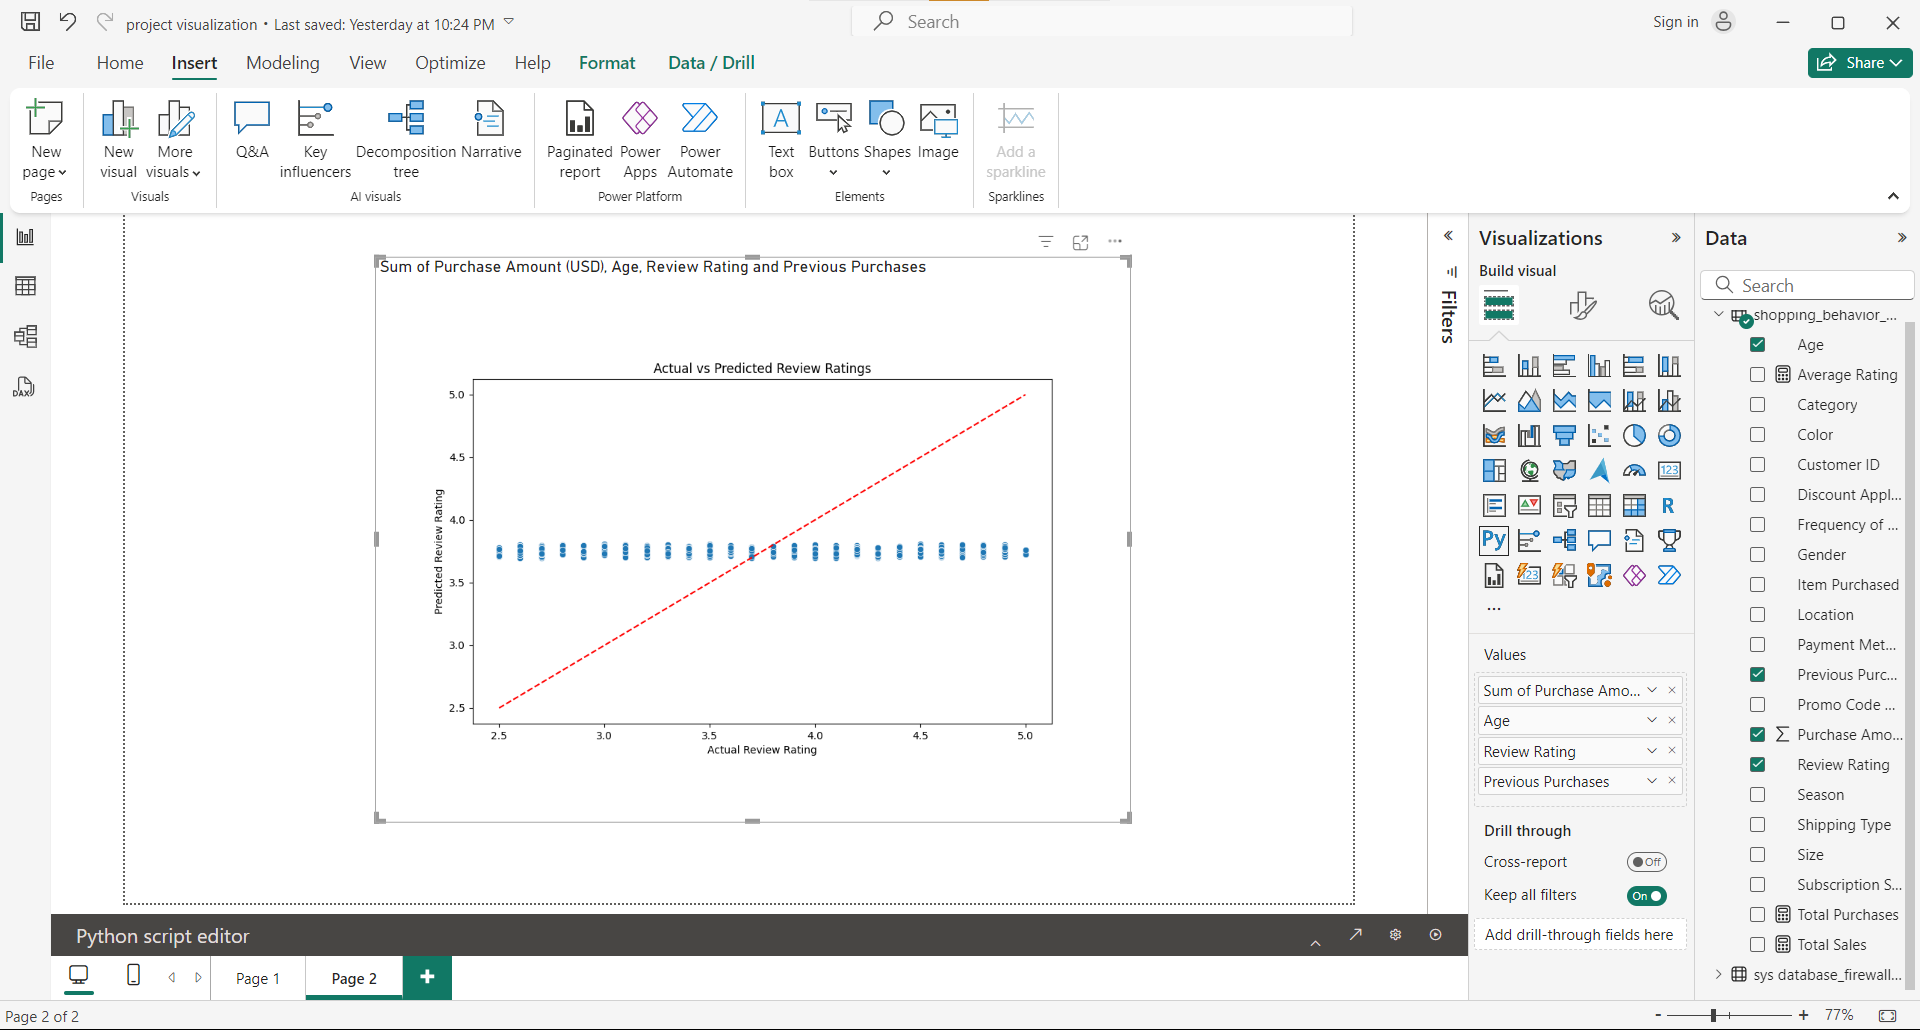

This screenshot's page, from the dashboard's own definition file:
{"tool":"powerbi","page":{"name":"Page 2","canvas":[1280,720],"ordinal":1},"visuals":[{"type":"pythonVisual","fields":{"Values":["Sum(shopping_behavior_updated.Purchase Amount (USD))","shopping_behavior_updated.Age","shopping_behavior_updated.Review Rating","shopping_behavior_updated.Previous Purchases"]},"box":[260.5,45.6,788,590],"z":0}]}

Visuals, with their boxes on the page's 1280x720 design canvas (x1, y1, x2, y2). These are canvas units, not pixel positions in the 1920x1030 screenshot, which may show the page scaled, cropped or inside an application window:
pythonVisual - Sum(shopping_behavior_updated.Purchase Amount (USD)) x shopping_behavior_updated.Age: bbox=[260, 46, 1048, 636]
